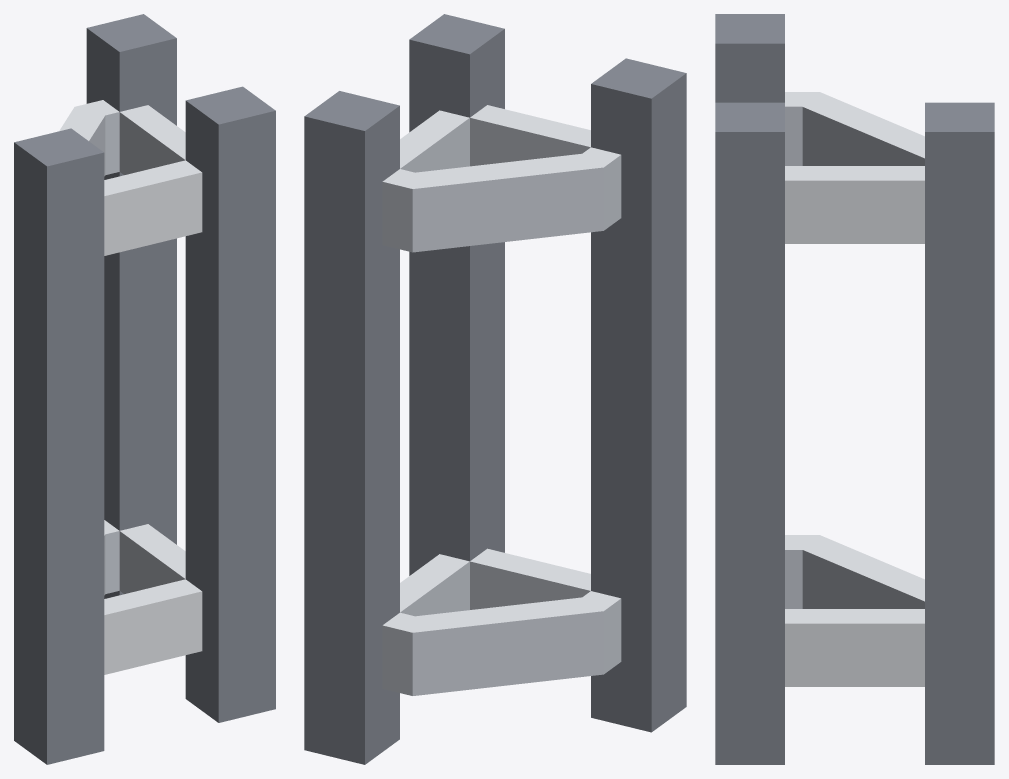
Rendered from monorail_trackSupportCorner.glb.
3 views of the same model, side by side, from view 1: azimuth 30°, elevation 25°; view 2: azimuth 150°, elevation 25°; view 3: azimuth 270°, elevation 25° (orthographic). The views are drawn at different scales.
Parts seen in each view (by area): view 1: monorail_trackSupportCorner; view 2: monorail_trackSupportCorner; view 3: monorail_trackSupportCorner.
Part boxes in pixels (box(x1,y1,x2,y2)): monorail_trackSupportCorner: box(14, 14, 275, 764); monorail_trackSupportCorner: box(304, 14, 686, 764); monorail_trackSupportCorner: box(715, 14, 994, 764).
Bounding box in the file's own units: 0.2 × 0.5 × 0.2.
Materials: 1 (1 with a texture image).
